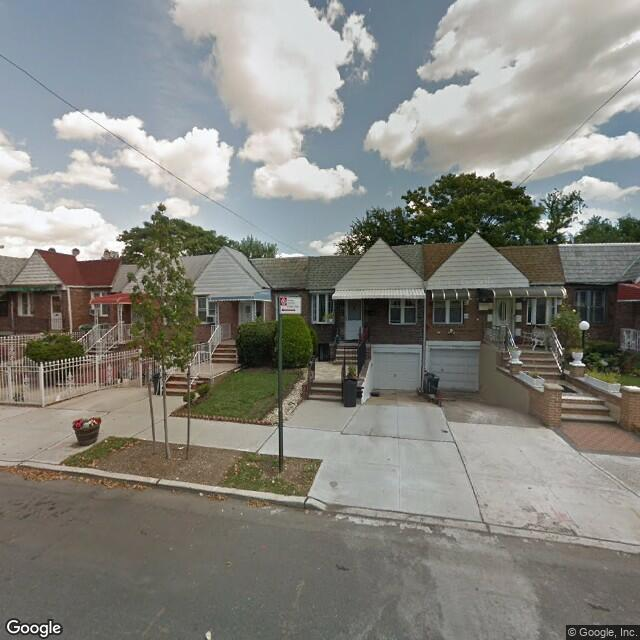litter: (200, 625, 216, 640)
